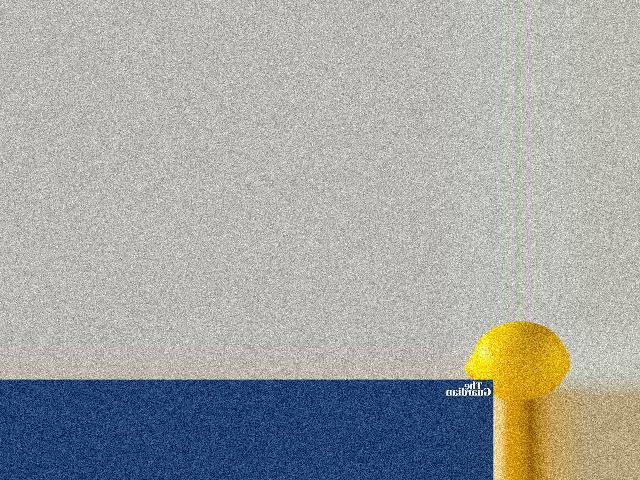lemon: (458, 321, 575, 401)
